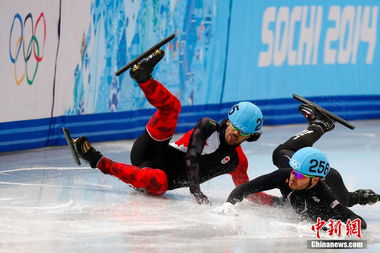fall: (56, 31, 277, 213)
